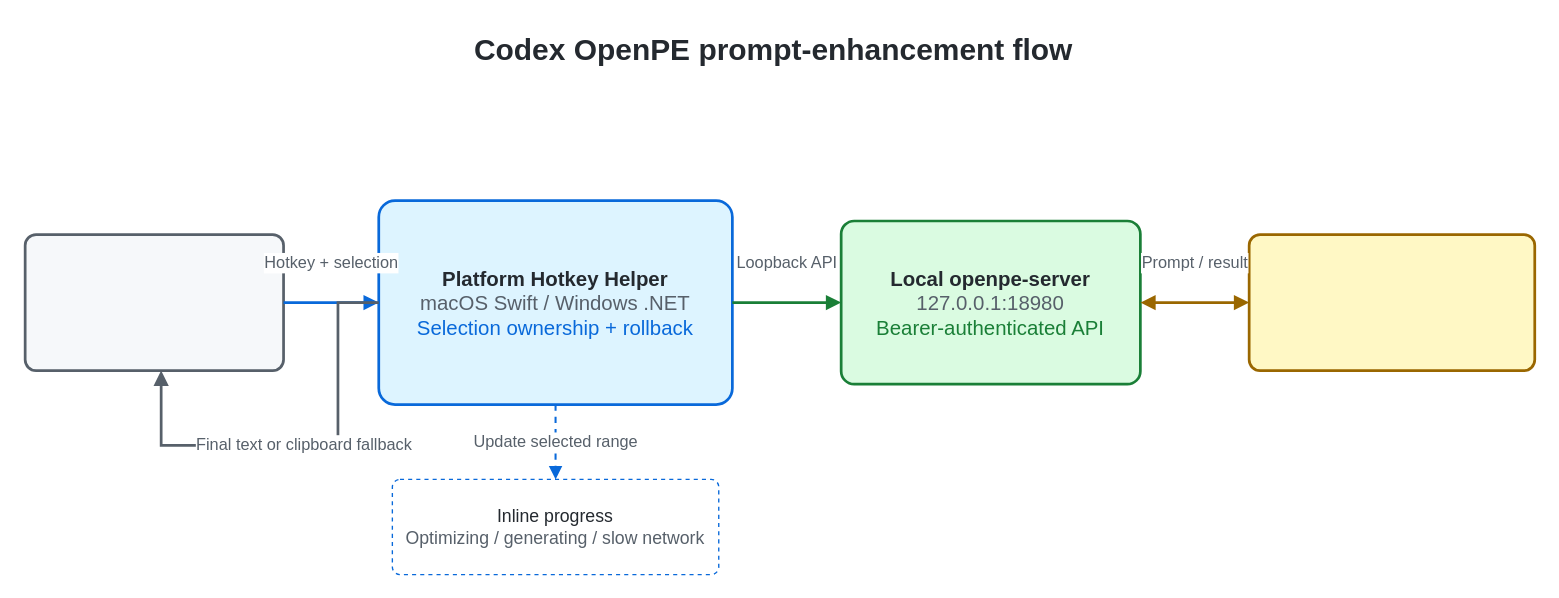
The diagram is 1559 pixels wide and 598 high, and some of its shapes have lost their labels. Here are the shapes that lost their labels. From the top down, the centre of each, then its label:
At pixel 153 302: "Codex Composer Selected prompt text".
At pixel 1391 302: "OpenAI-compatible Gateway Configured model endpoint".
